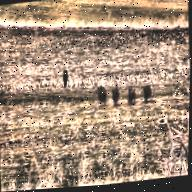boar: (56, 63, 71, 92), (140, 80, 154, 106), (108, 87, 122, 113), (94, 83, 107, 103), (127, 81, 138, 103)
